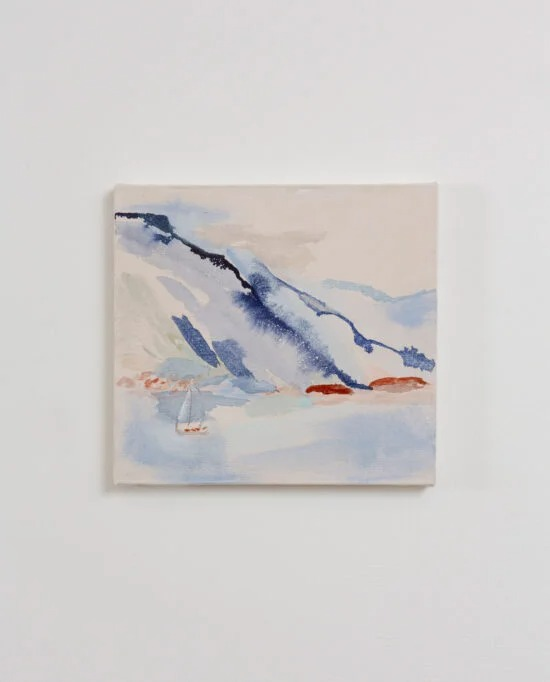painting: (113, 182, 438, 486)
